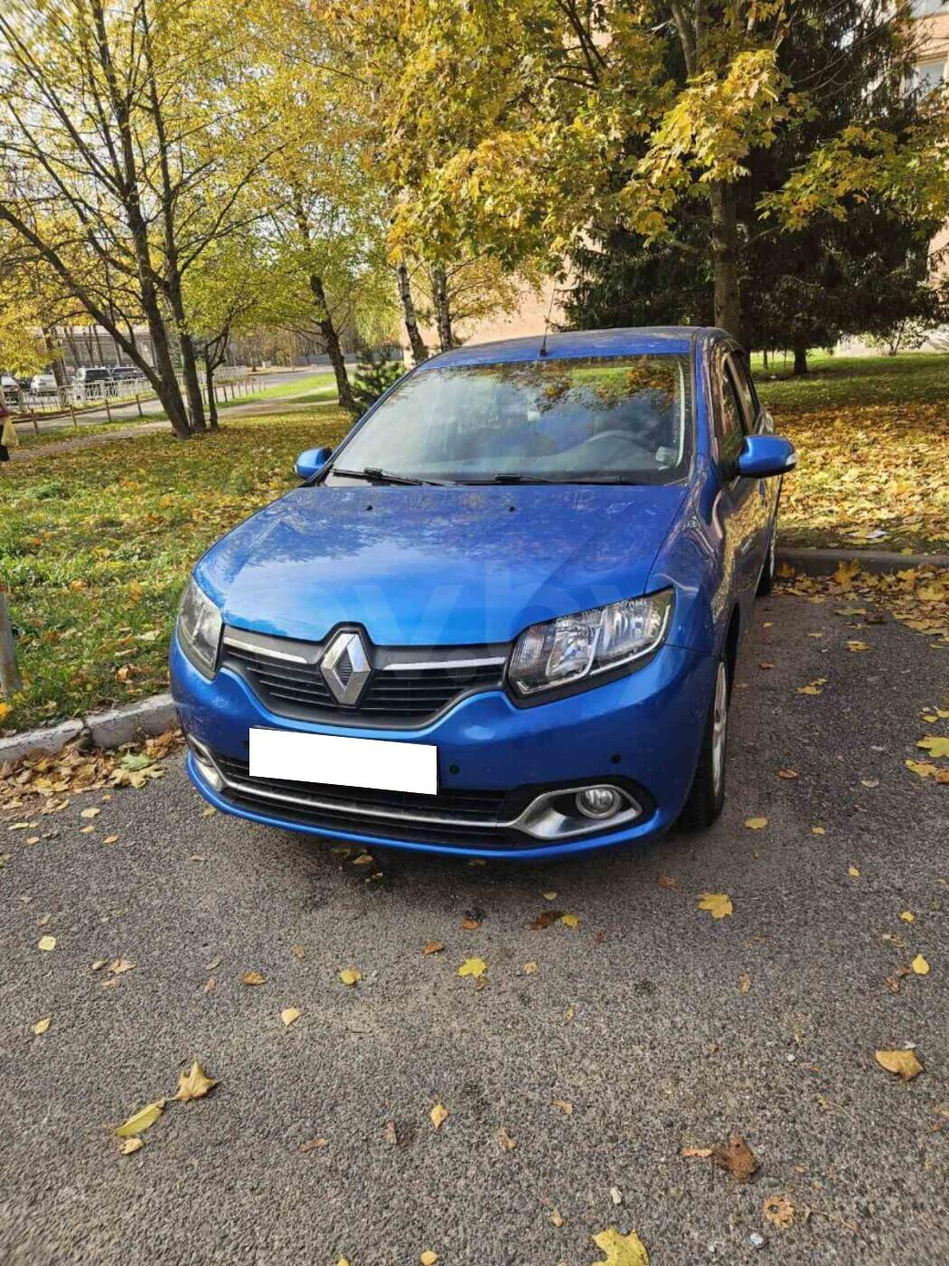Logan_2013-2018: (172, 311, 795, 857)
